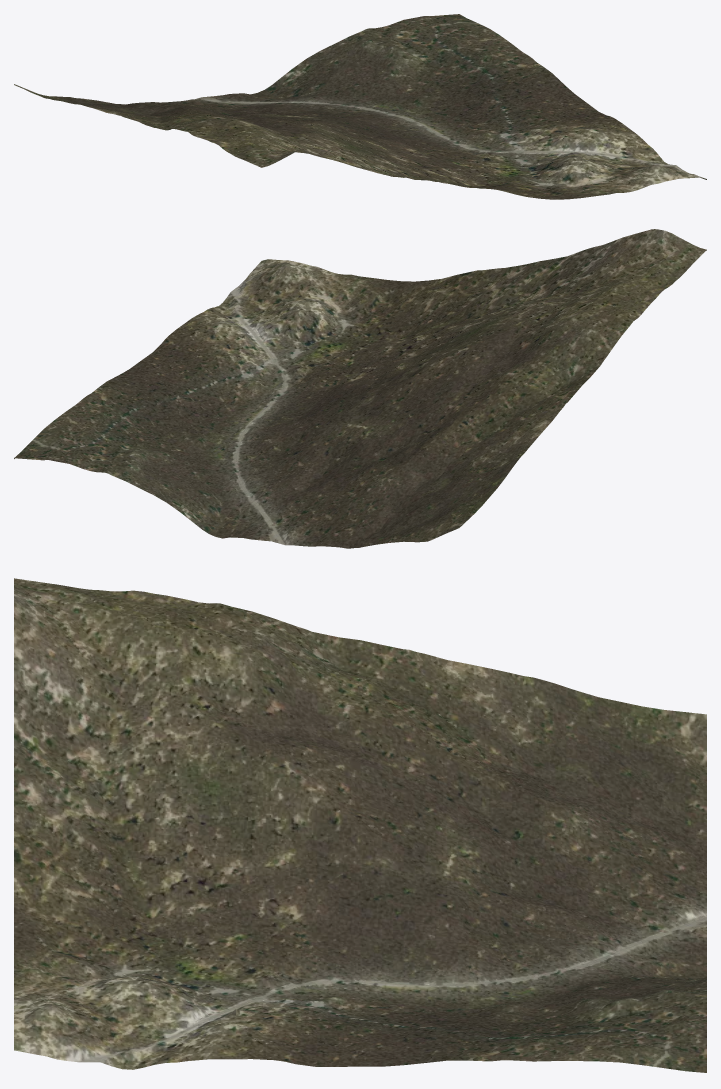
3 renders of one model, top to bottom at view 1: azimuth 30°, elevation 25°; view 2: azimuth 150°, elevation 25°; view 3: azimuth 270°, elevation 25°, orthographic. The views are drawn at different scales.
Bounding box in the file's own units: 1000 × 376 × 963.
Materials: 1 (1 with a texture image).
